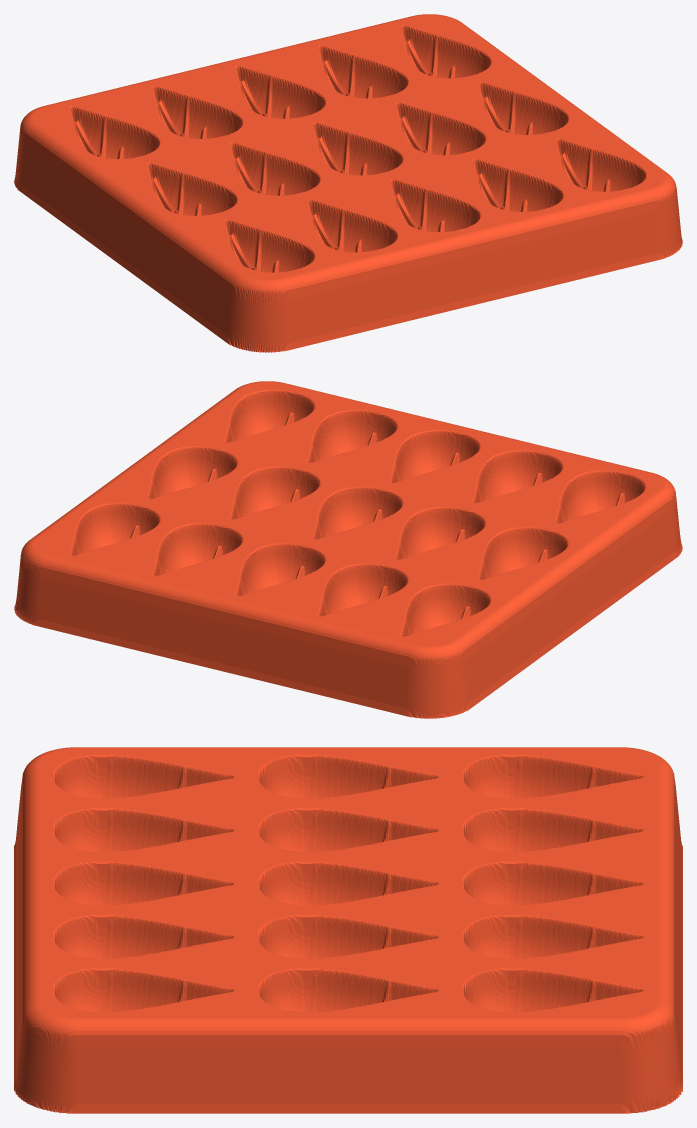
File: mold.glb
3 views of the same model, one above another, from view 1: azimuth 30°, elevation 25°; view 2: azimuth 150°, elevation 25°; view 3: azimuth 270°, elevation 25° (orthographic). The views are drawn at different scales.
Parts seen in each view (by area): view 1: geometry_0; view 2: geometry_0; view 3: geometry_0.
Part boxes in pixels (box(x1,y1,x2,y2)): geometry_0: box(14, 14, 682, 352); geometry_0: box(14, 381, 682, 718); geometry_0: box(14, 747, 682, 1113).
Size of the model in its own units: 0.0992 by 0.0136 by 0.0966.
